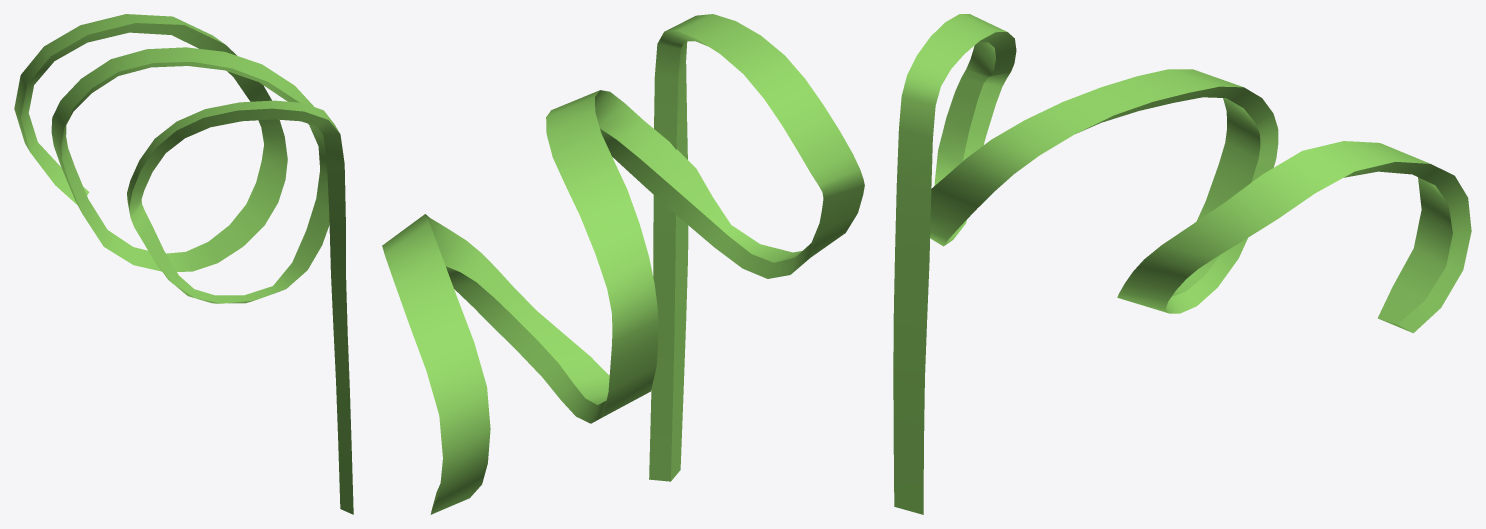
File: lianas_J.fbx
3 views of the same model, side by side, from view 1: azimuth 30°, elevation 25°; view 2: azimuth 150°, elevation 25°; view 3: azimuth 270°, elevation 25° (orthographic). The views are drawn at different scales.
Visible parts, largest first — view 1: liana_J_thick, liana_J; view 2: liana_J_thick, liana_J; view 3: liana_J_thick, liana_J.
Boxes of the visible parts, <box> form: liana_J_thick: <box>18,14,353,514</box>; liana_J: <box>14,23,334,303</box>; liana_J_thick: <box>382,14,858,508</box>; liana_J: <box>408,14,864,514</box>; liana_J_thick: <box>894,14,1471,514</box>; liana_J: <box>893,30,1430,508</box>.
Size of the model in its own units: 25.15 by 37.7 by 45.09.
